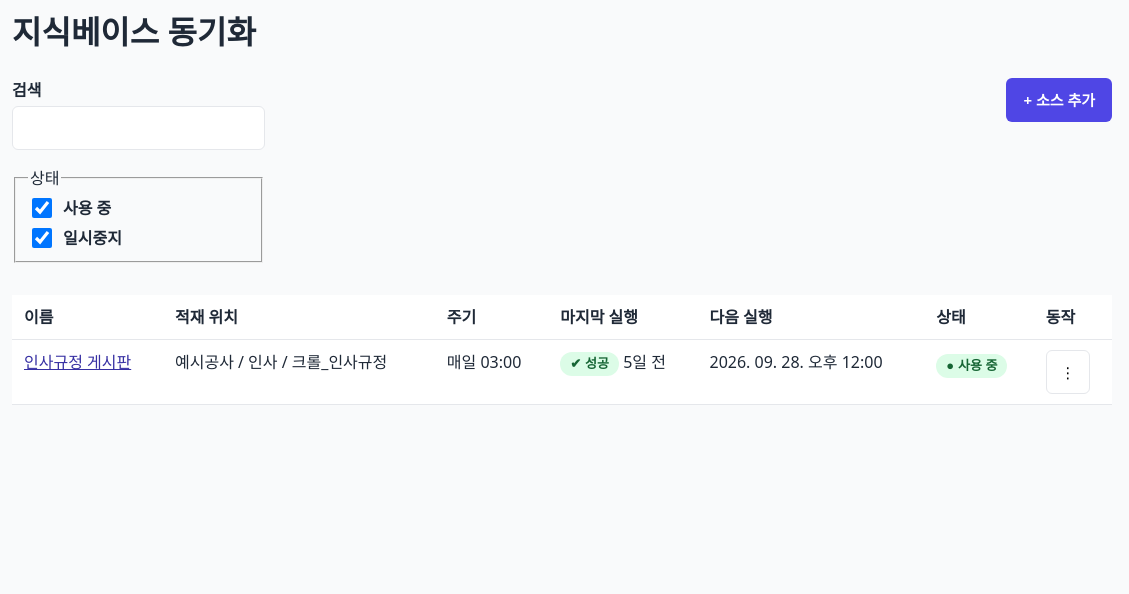
Test case: KbSourcesPage › 거버넌스 위반 시 "지금 실행" 사전 비활성 › 거버넌스 OFF이면 마스킹 끔 소스도 기존대로 활성이고 사유가 없다
Click the button named "관리": (1068, 372) [1046,350,1090,394]
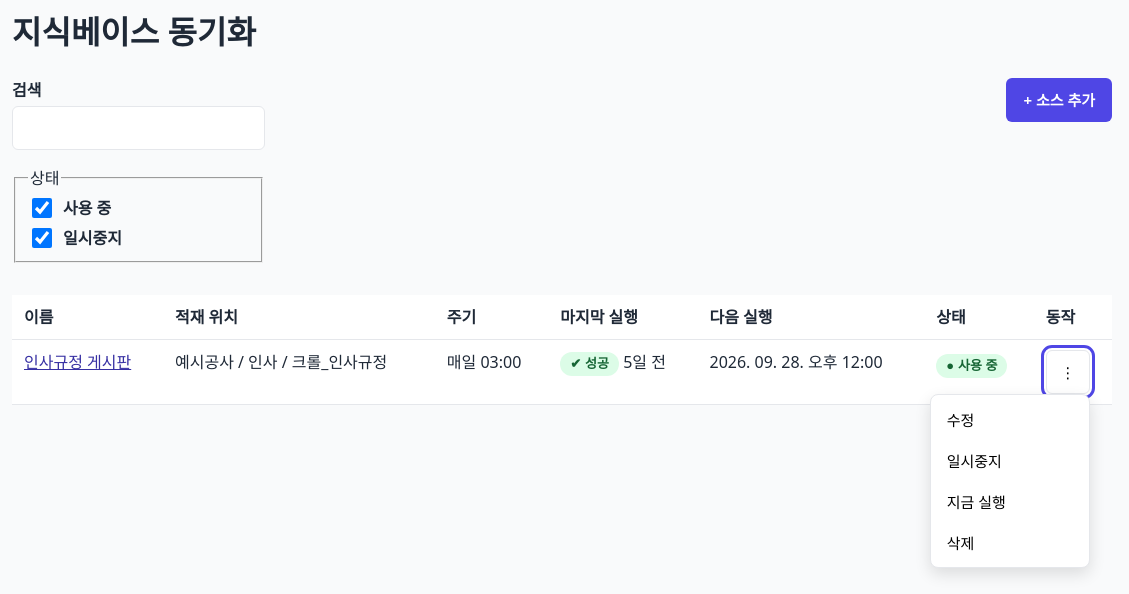
Now the menu item "지금 실행" is enabled, box [935,482,1085,522]
